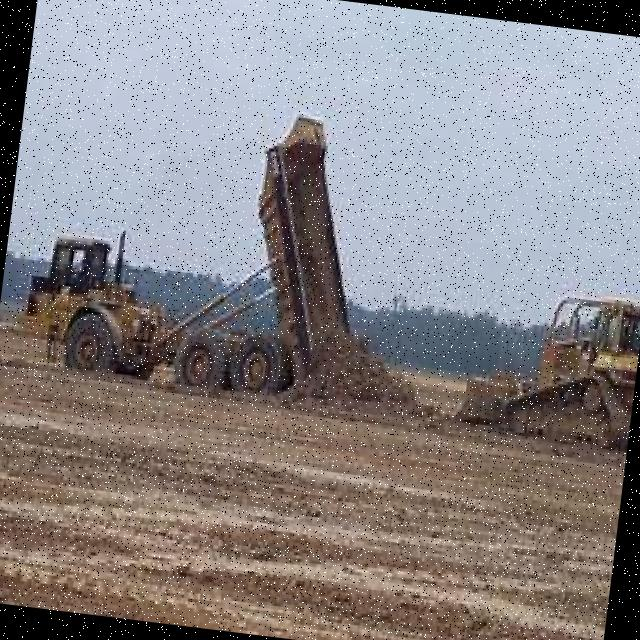Bulldozer: (435, 246, 640, 470)
Dump Truck: (15, 71, 392, 418)
